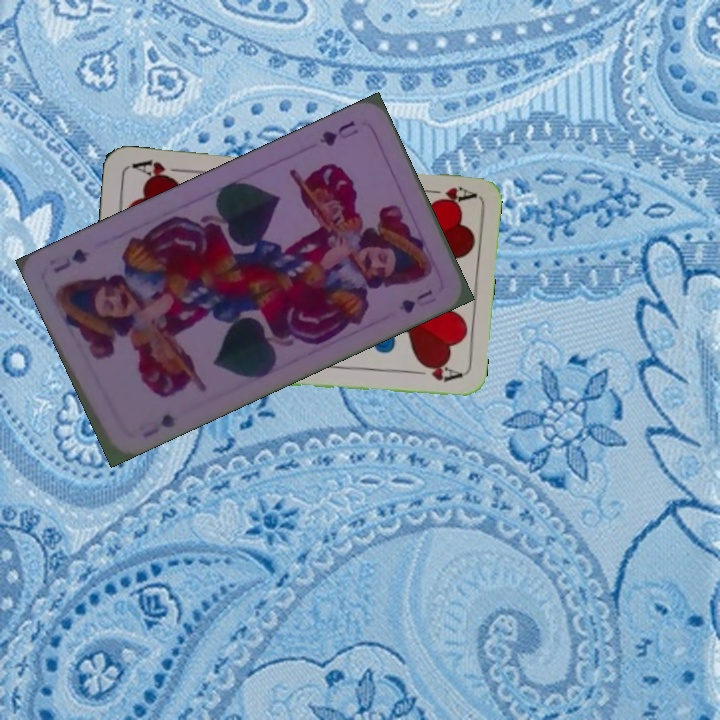GU: (315, 115, 361, 150), (139, 410, 179, 440)
HA: (417, 182, 476, 209)
